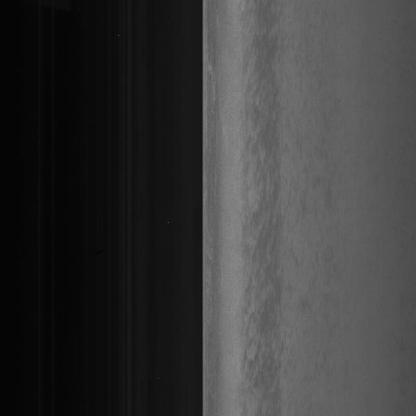silk_spot: (231, 129, 283, 236)
